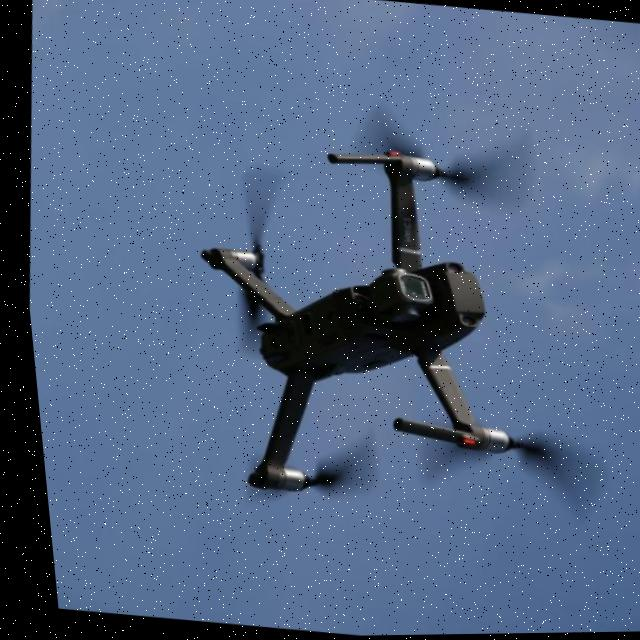drones: (143, 20, 640, 574)
